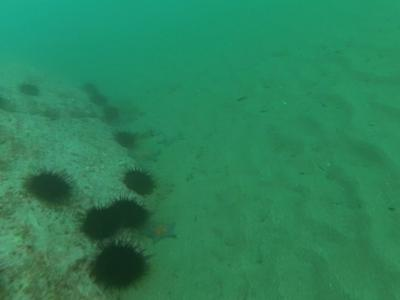urchin: (93, 237, 147, 289), (24, 168, 75, 210), (80, 206, 117, 240), (111, 198, 149, 231), (124, 165, 157, 198), (17, 83, 38, 96), (105, 105, 119, 124), (118, 132, 137, 146)
